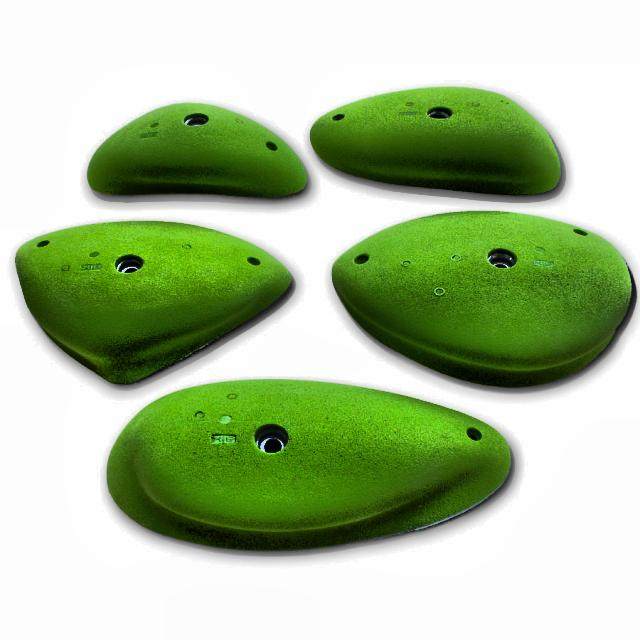Hold: (102, 385, 522, 551), (334, 216, 630, 386), (14, 226, 291, 374), (318, 81, 562, 195), (92, 98, 306, 205)
